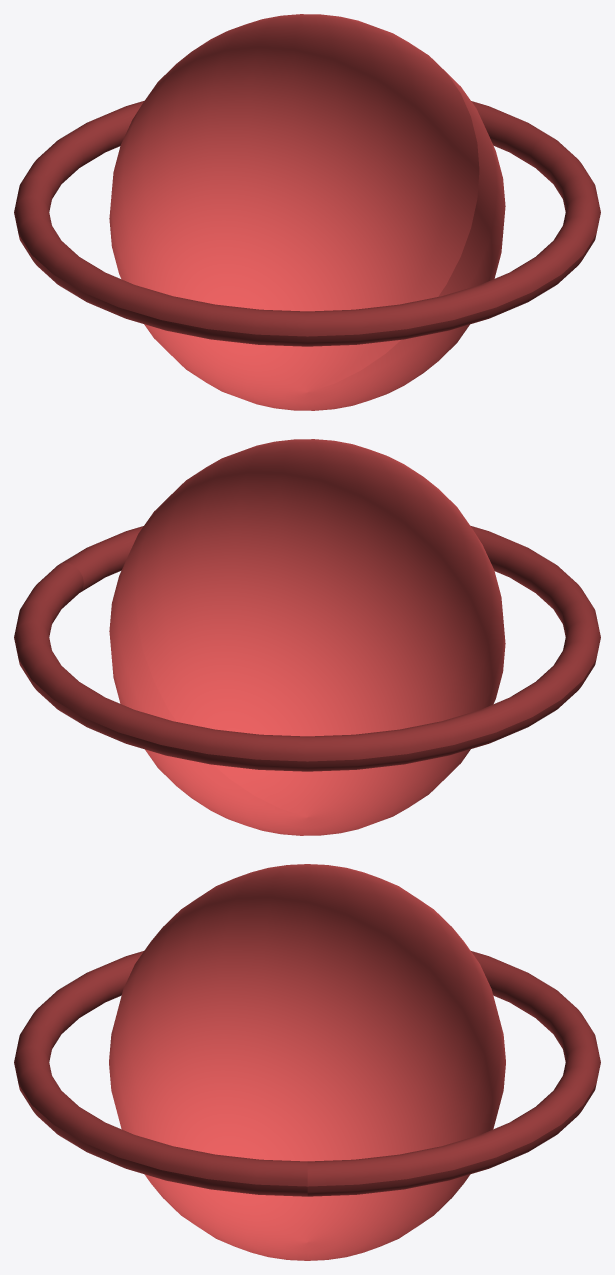
File: asset_a8a80d3b36.glb
3 views of the same model, one above another, from view 1: azimuth 30°, elevation 25°; view 2: azimuth 150°, elevation 25°; view 3: azimuth 270°, elevation 25° (orthographic).
Parts seen in each view (by area): view 1: body, ring; view 2: body, ring; view 3: body, ring.
Part boxes in pixels (bbox=[...]): body: bbox=[109, 14, 505, 410]; ring: bbox=[14, 100, 600, 346]; body: bbox=[109, 439, 505, 835]; ring: bbox=[14, 525, 600, 771]; body: bbox=[109, 864, 505, 1260]; ring: bbox=[14, 951, 600, 1196].
Bounding box in the file's own units: 2.66 × 1.8 × 2.66.
